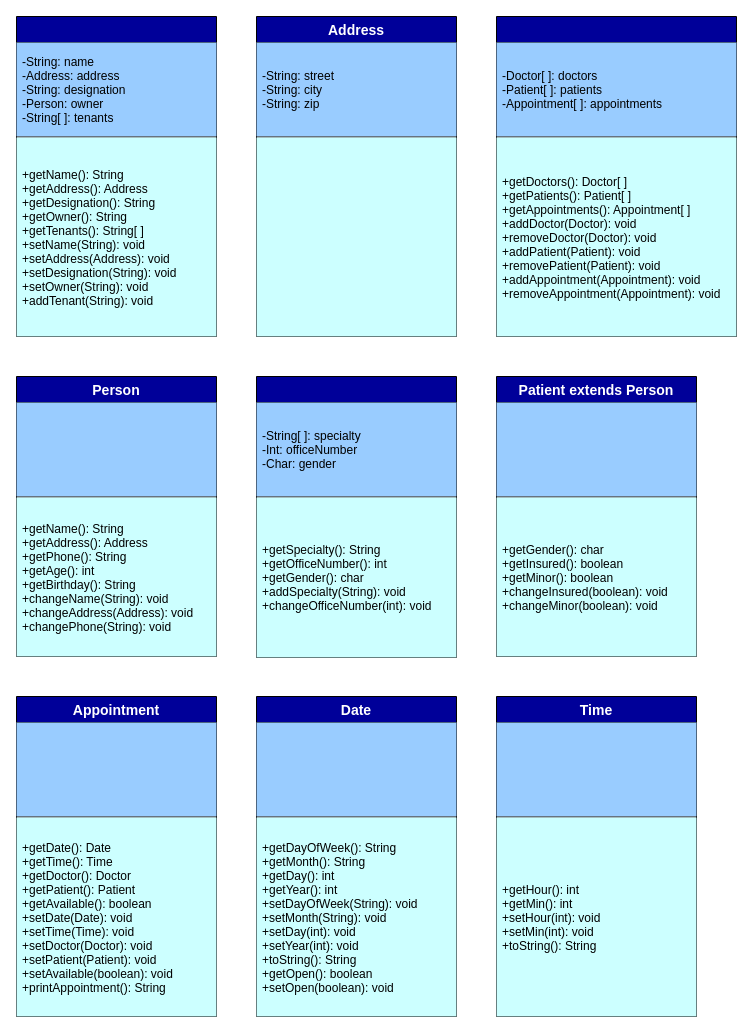
The diagram is 753 pixels wide and 1033 high, and some of its shapes have lost their labels. Here are the shapes that lost their labels. From the top down, the box of each, then its label:
(16, 16, 216, 336): Building
(496, 16, 736, 336): DoctorOffice extends Building
(256, 137, 456, 336): +getStreet(): String +getCity(): String +getZip(): String +setTo(Address): void;
(16, 402, 216, 496): -String: name -Address: address -String: phone -Int: age -String: birthday
(496, 402, 696, 496): -Char: gender -Boolean: insured -Boolean: minor
(256, 376, 456, 658): Doctor extends Person
(16, 722, 216, 816): -Date: date -Time: time -Doctor: doctor -Patient: patient -boolean: available
(256, 722, 456, 816): -String: dayOfWeek -String: month -Int: day -Int: year -boolean: open
(496, 722, 696, 816): -Int: hour -Int: min
